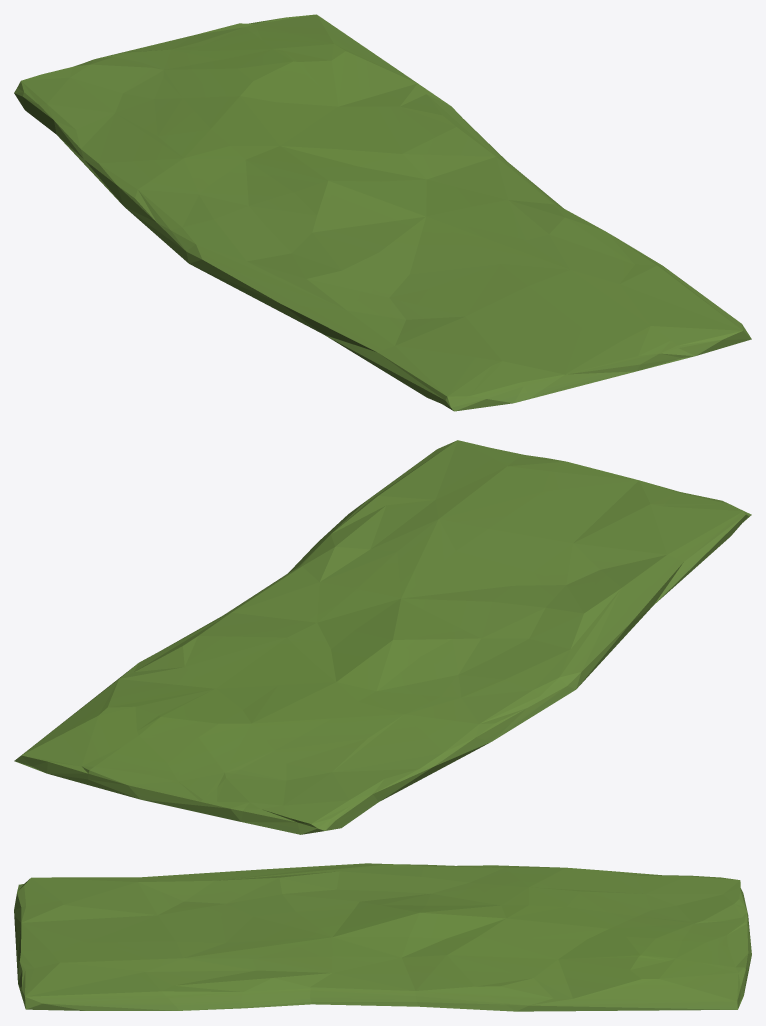
The model's file is MudRoad_02.fbx.
The picture shows the model from 3 angles, top to bottom: view 1: azimuth 30°, elevation 25°; view 2: azimuth 150°, elevation 25°; view 3: azimuth 270°, elevation 25°; orthographic projection. The views are drawn at different scales.
Parts seen in each view (by area): view 1: MudRoad_02; view 2: MudRoad_02; view 3: MudRoad_02.
Boxes of the visible parts, x1=… form: MudRoad_02: x1=14, y1=14, x2=751, y2=411; MudRoad_02: x1=14, y1=440, x2=751, y2=834; MudRoad_02: x1=14, y1=863, x2=751, y2=1011.
Bounding box in the file's own units: 3.87 × 0.3011 × 8.5.
